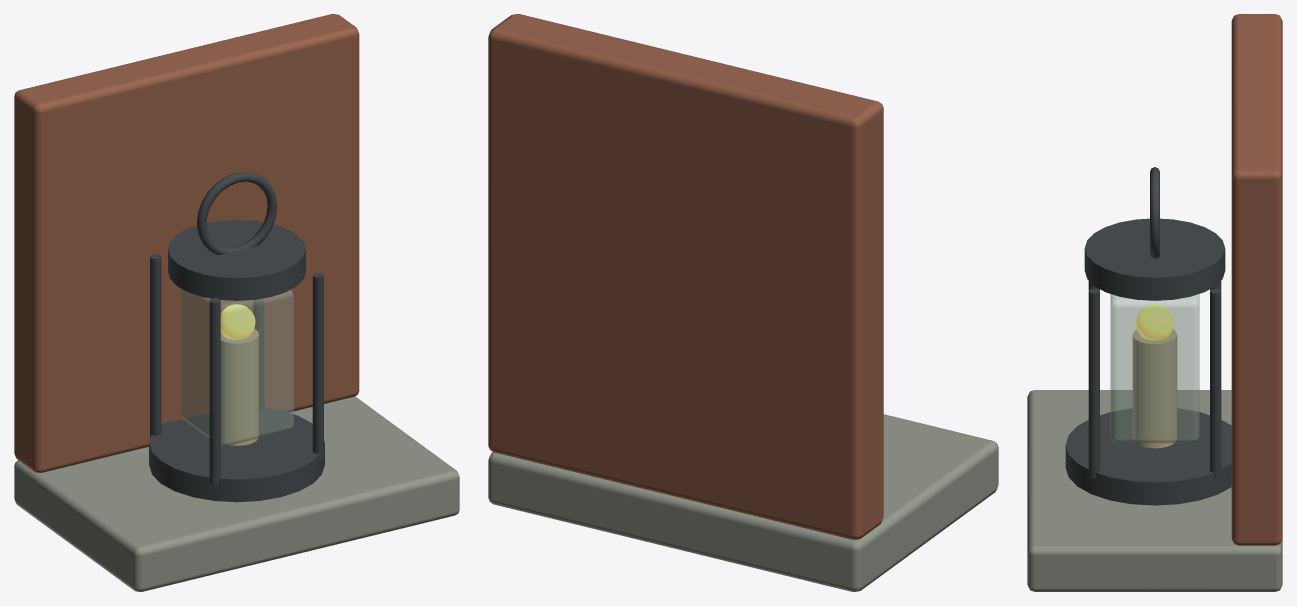
The model's file is undercity-sewers-and-thieves-den-oil-lamp-niche-d68b4395__27208.glb.
The picture shows the model from 3 angles, left to right: view 1: azimuth 30°, elevation 25°; view 2: azimuth 150°, elevation 25°; view 3: azimuth 270°, elevation 25°; orthographic projection. The views are drawn at different scales.
Visible parts, largest first — view 1: oil-lamp-niche; view 2: oil-lamp-niche; view 3: oil-lamp-niche.
Boxes of the visible parts, x1,y1,x2,y2 form: oil-lamp-niche: (14, 14, 459, 591); oil-lamp-niche: (488, 14, 998, 591); oil-lamp-niche: (1027, 14, 1282, 591).
Bounding box in the file's own units: 0.6 × 0.73 × 0.4.
